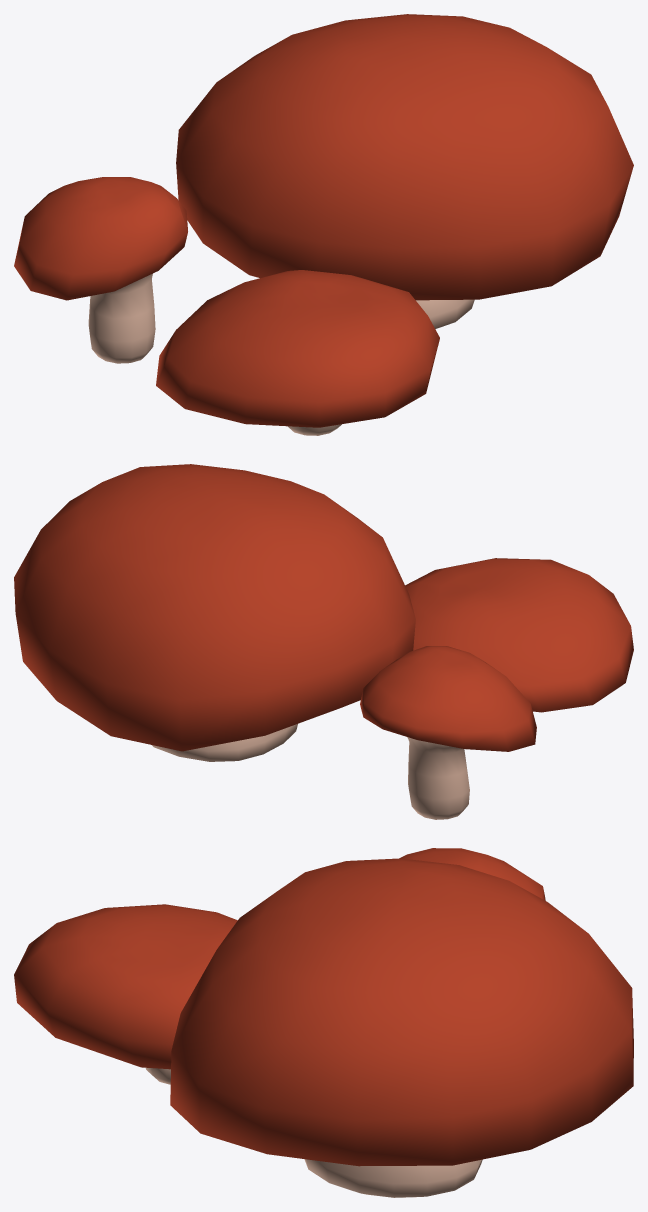
Rendered from Fungus_A_03.fbx.
3 views of the same model, one above another, from view 1: azimuth 30°, elevation 25°; view 2: azimuth 150°, elevation 25°; view 3: azimuth 270°, elevation 25° (orthographic). The views are drawn at different scales.
Visible parts, largest first — view 1: Fungus_A_03_LOD0; view 2: Fungus_A_03_LOD0; view 3: Fungus_A_03_LOD0.
Part boxes in pixels (x1=…): Fungus_A_03_LOD0: x1=14, y1=14, x2=633, y2=435; Fungus_A_03_LOD0: x1=14, y1=464, x2=633, y2=819; Fungus_A_03_LOD0: x1=14, y1=848, x2=633, y2=1197.
Size of what is drawn, in the model's own units: 443 by 204 by 404.
